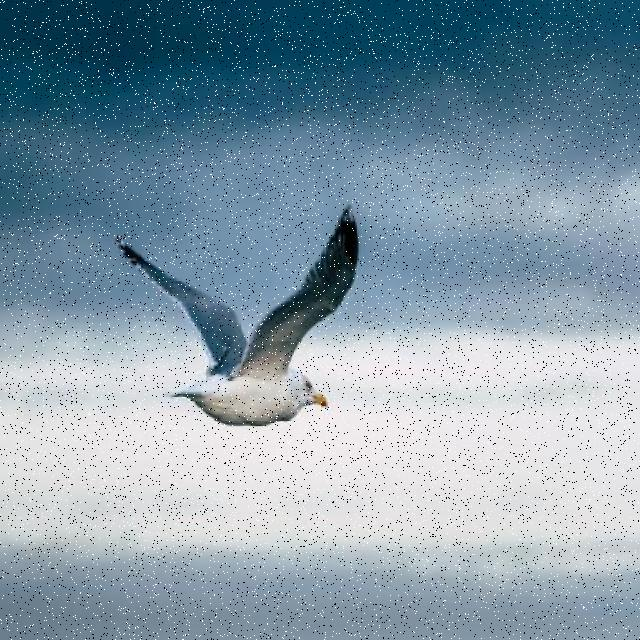bird: (116, 206, 359, 427)
